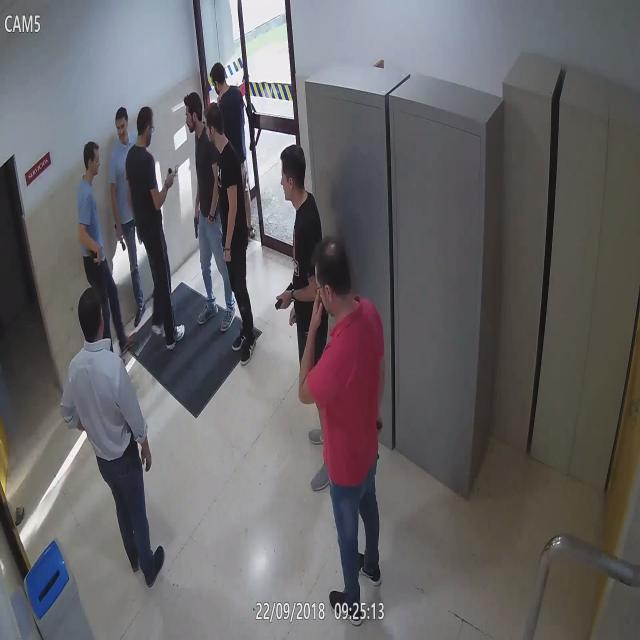Gun: (272, 278, 294, 314), (126, 427, 138, 458), (190, 206, 200, 238), (90, 247, 102, 273)
